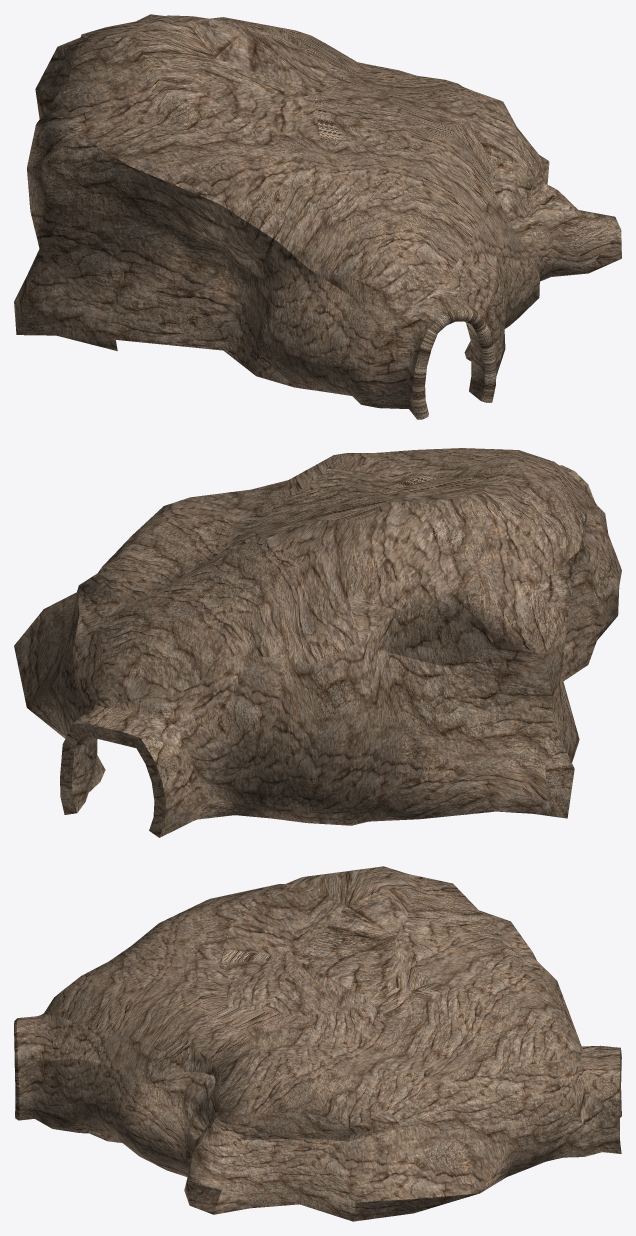
File: wall03.FBX
3 views of the same model, one above another, from view 1: azimuth 30°, elevation 25°; view 2: azimuth 150°, elevation 25°; view 3: azimuth 270°, elevation 25° (orthographic). The views are drawn at different scales.
Parts seen in each view (by area): view 1: Object003, Object002; view 2: Object003, Object002; view 3: Object003, Object002.
Part boxes in pixels (x1,y1,x2,y2): Object003: [36, 14, 546, 350]; Object002: [14, 47, 621, 419]; Object003: [63, 448, 596, 763]; Object002: [14, 505, 621, 837]; Object003: [14, 866, 621, 1141]; Object002: [14, 952, 621, 1221].
Bounding box in the file's own units: 549 × 273 × 669.
